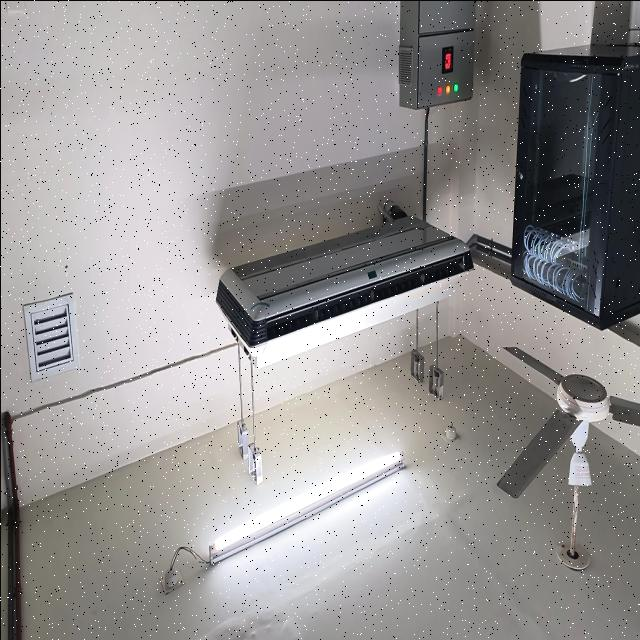Ac: (215, 207, 472, 368)
Light: (159, 451, 404, 594)
